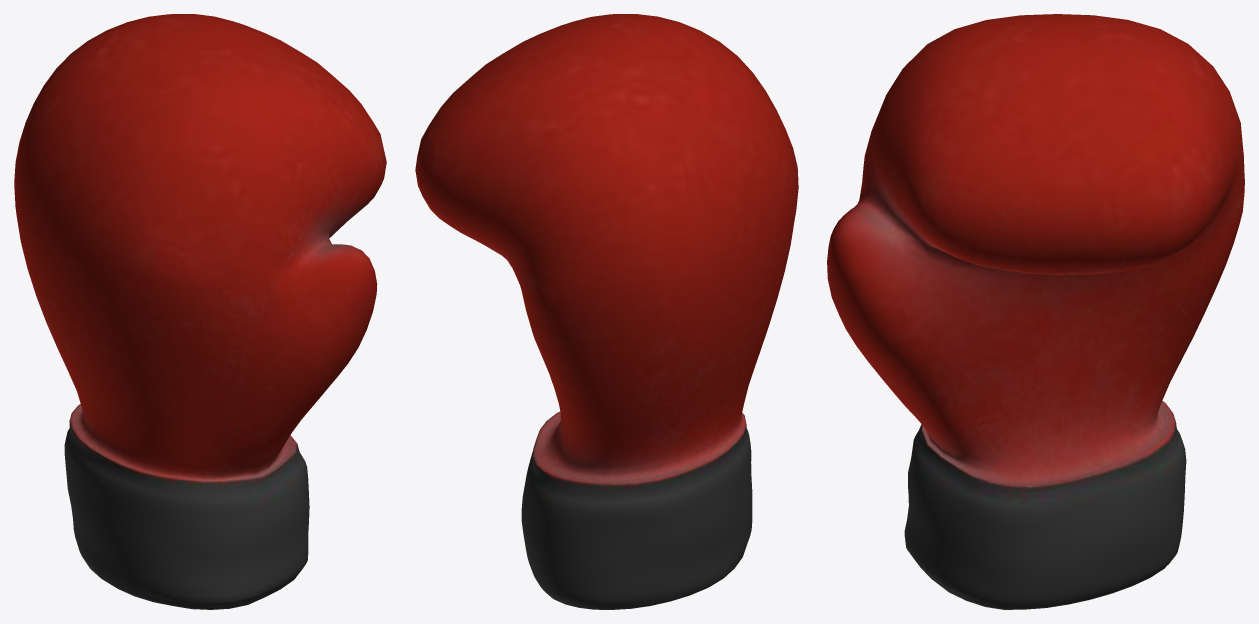
Rendered from guante_box.glb.
3 renders of one model, left to right at view 1: azimuth 30°, elevation 25°; view 2: azimuth 150°, elevation 25°; view 3: azimuth 270°, elevation 25°, orthographic. The views are drawn at different scales.
Visible parts, largest first — view 1: Glove_0; view 2: Glove_0; view 3: Glove_0.
Part boxes in pixels (left/top/right/bottom): Glove_0: left=14, top=14, right=386, bottom=609; Glove_0: left=415, top=14, right=798, bottom=609; Glove_0: left=827, top=14, right=1244, bottom=609.
Bounding box in the file's own units: 6.02 × 9.99 × 6.98.
1 material, 1 textured.
